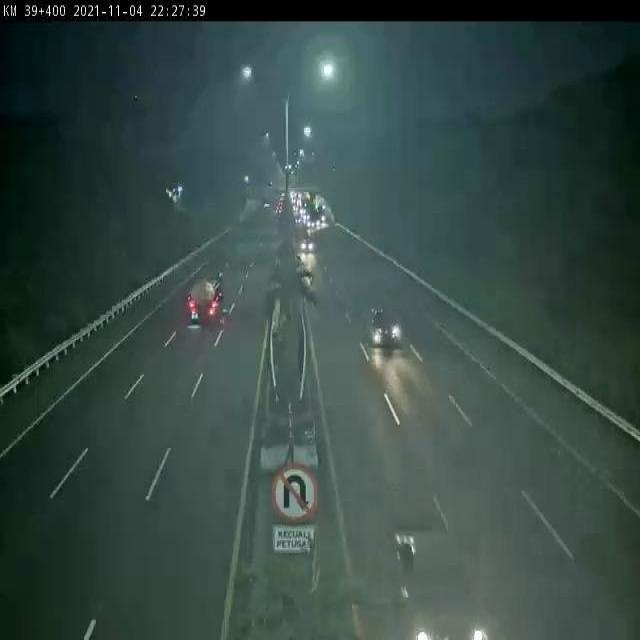car: (387, 520, 490, 640), (366, 301, 402, 348)
truck-l-: (187, 273, 224, 324)
